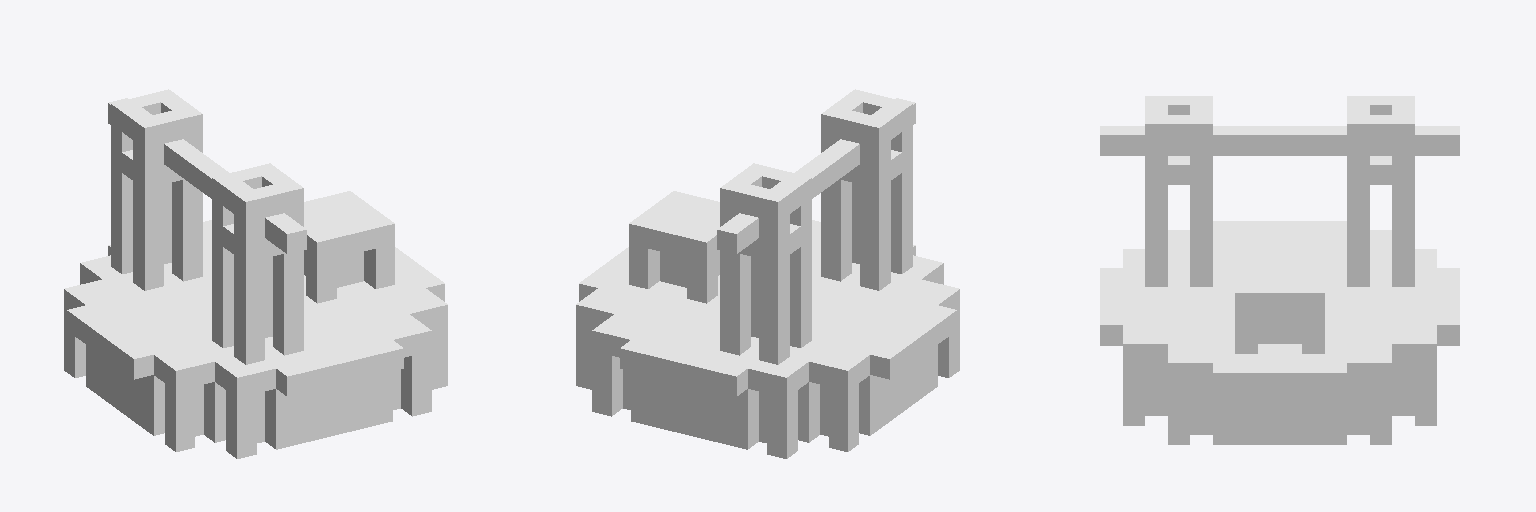
The model's file is cherry_base.vox.obj.
The picture shows the model from 3 angles: view 1: azimuth 30°, elevation 25°; view 2: azimuth 150°, elevation 25°; view 3: azimuth 270°, elevation 25°; orthographic projection.
Visible parts, largest first — view 1: object 1; view 2: object 1; view 3: object 1.
Part boxes in pixels (bbox=[...]): object 1: bbox=[64, 89, 447, 458]; object 1: bbox=[576, 89, 959, 458]; object 1: bbox=[1100, 96, 1459, 444].
Bounding box in the file's own units: 1.6 × 1.2 × 1.6.